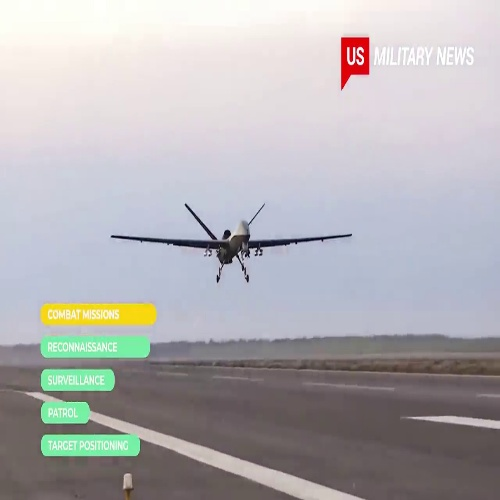uav: (110, 201, 353, 286)
